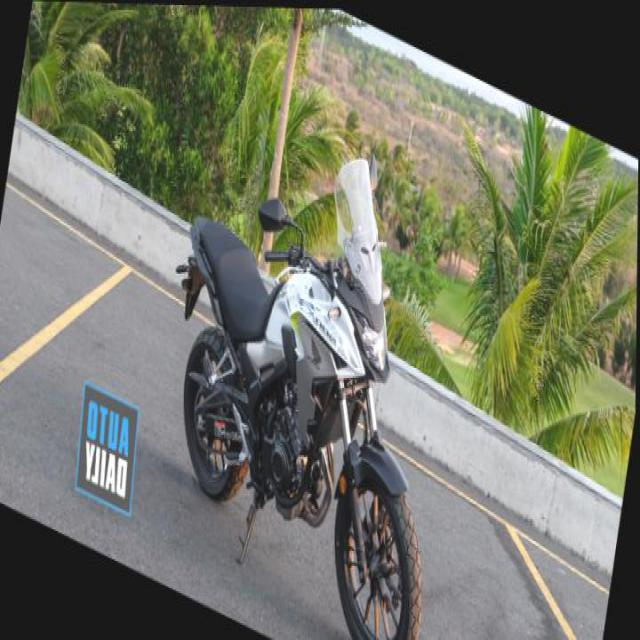CB500X: (138, 72, 484, 638)
